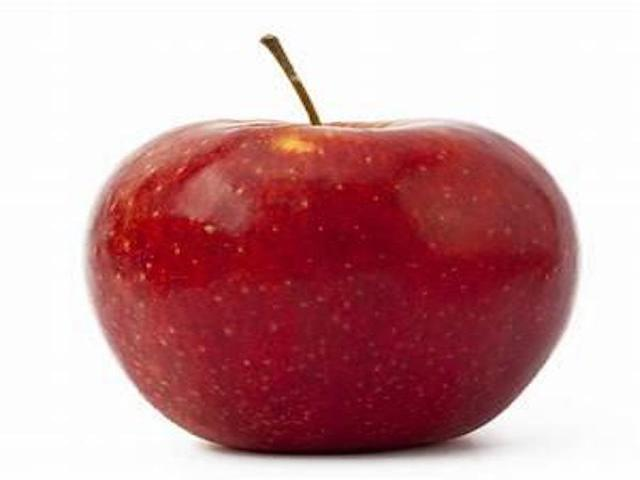apple: (80, 23, 584, 458)
